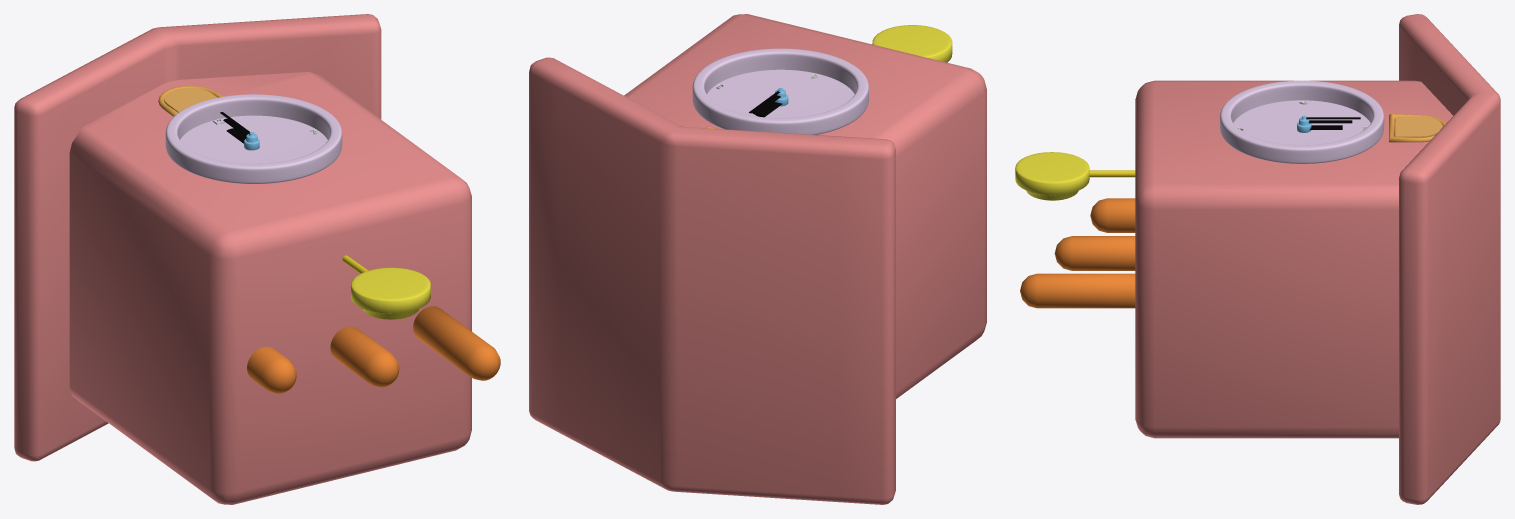
The model's file is clock.glb.
3 renders of one model, left to right at view 1: azimuth 30°, elevation 25°; view 2: azimuth 150°, elevation 25°; view 3: azimuth 270°, elevation 25°, orthographic. The views are drawn at different scales.
Visible parts, largest first — view 1: Clock body, Clock roof, Clock frame, Clock decoration.001, Clock pendulum, Clock decoration.003, Clock decoration.004, Door; view 2: Clock roof, Clock body, Clock frame, Clock pendulum; view 3: Clock body, Clock roof, Clock frame, Clock decoration.001, Clock pendulum, Clock decoration.003, Clock decoration.004, Door, Door outer feame.
Part boxes in pixels (<box>): Clock body: <box>69,72,471,504</box>; Clock roof: <box>14,14,381,461</box>; Clock frame: <box>165,94,342,183</box>; Clock decoration.001: <box>413,306,500,380</box>; Clock pendulum: <box>351,267,430,319</box>; Clock decoration.003: <box>330,326,399,387</box>; Clock decoration.004: <box>247,346,296,393</box>; Door: <box>164,88,217,112</box>; Clock roof: <box>529,57,895,504</box>; Clock body: <box>624,14,986,398</box>; Clock frame: <box>692,48,868,134</box>; Clock pendulum: <box>872,25,952,62</box>; Clock body: <box>1135,80,1452,438</box>; Clock roof: <box>1399,14,1500,504</box>; Clock frame: <box>1220,80,1384,163</box>; Clock decoration.001: <box>1020,273,1135,308</box>; Clock pendulum: <box>1015,152,1089,200</box>; Clock decoration.003: <box>1054,236,1135,270</box>; Clock decoration.004: <box>1090,198,1135,232</box>; Door: <box>1395,116,1442,137</box>; Door outer feame: <box>1389,114,1445,142</box>.
Bounding box in the file's own units: 2.79 × 2.64 × 3.48.
